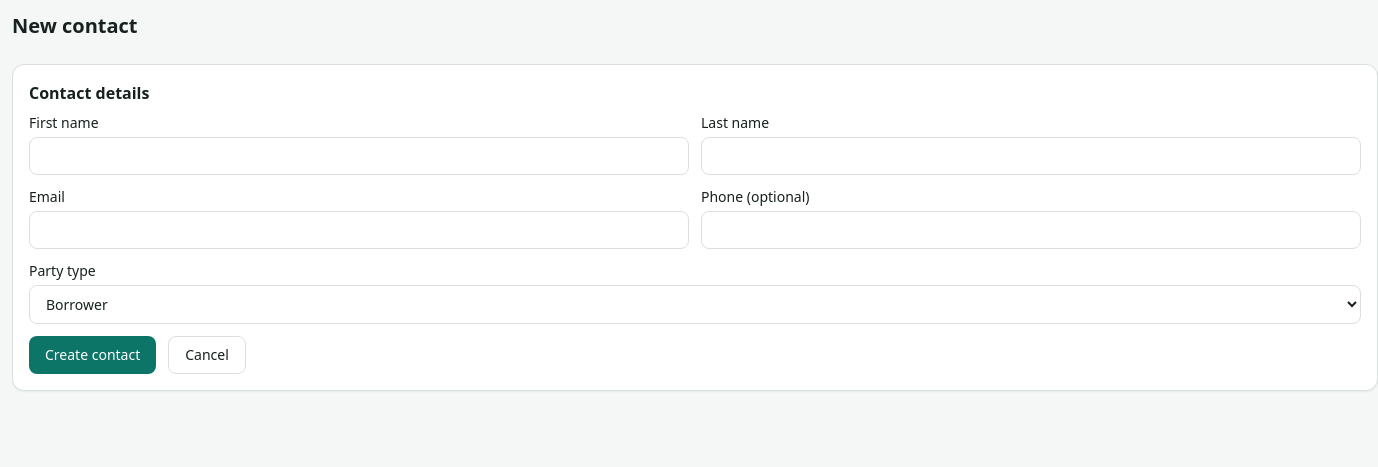
Scenario: ContactFormPage › shows the API validation errors
This screenshot has width=1378, height=467.
In the field labelled "First name": (359, 156) [29, 137, 689, 175], type "Ann"
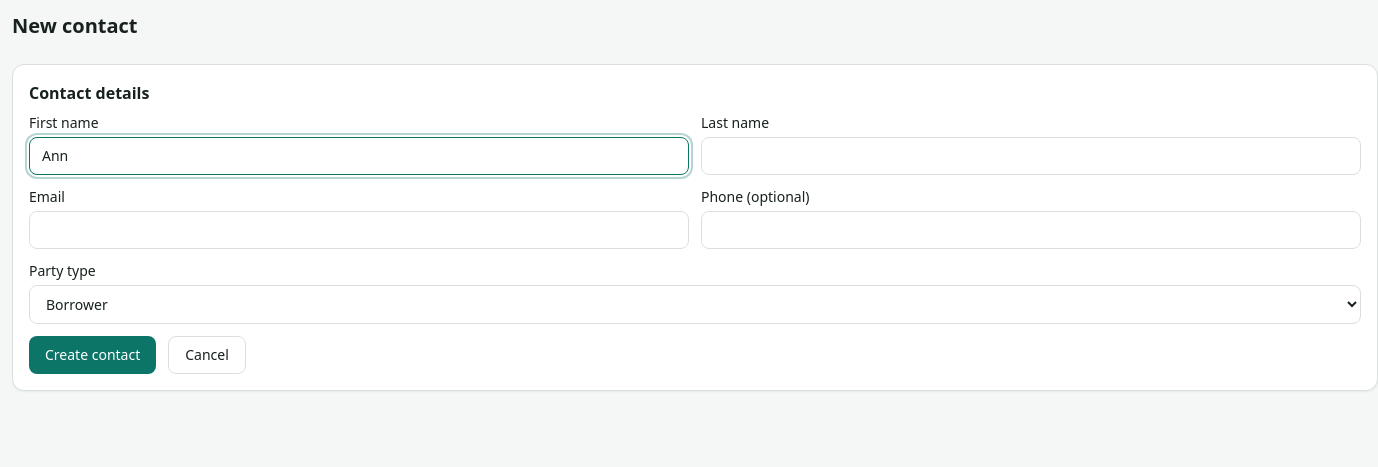
In the field labelled "Last name": (1031, 156) [701, 137, 1361, 175], type "Lee"
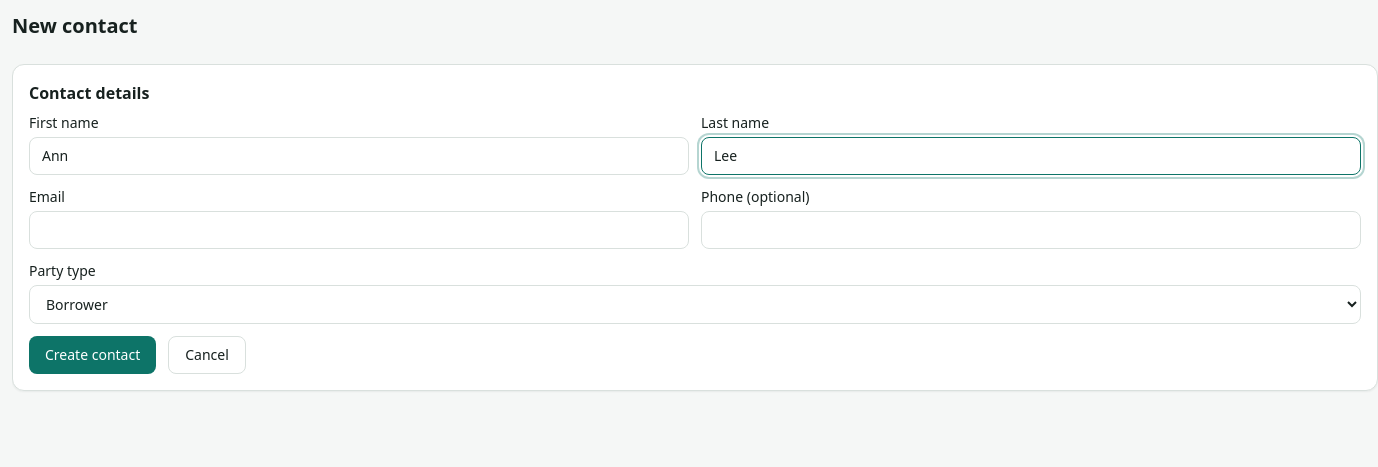
In the field labelled "Email": (359, 230) [29, 211, 689, 249], type "ann@example.com"
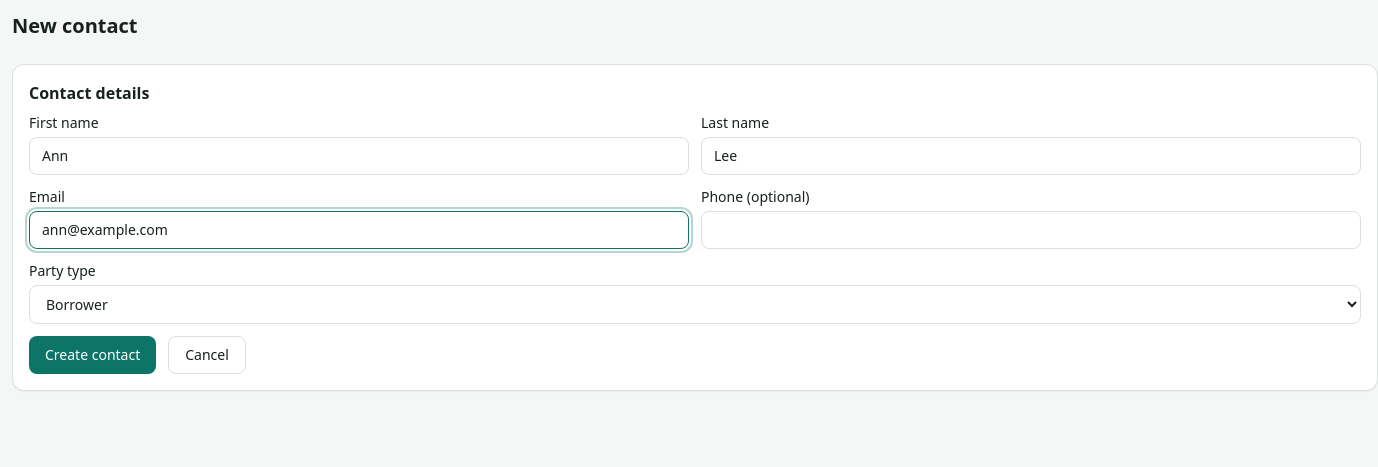
In the field labelled "Phone (optional)": (1031, 230) [701, 211, 1361, 249], type "abc"
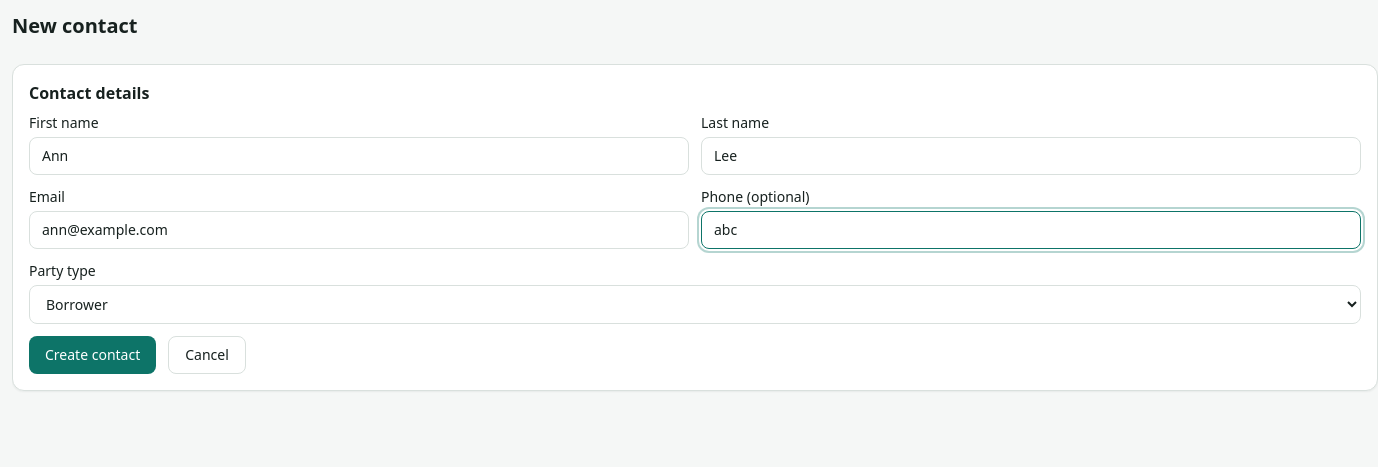
Click the button "Create contact": (93, 355) [29, 336, 156, 374]
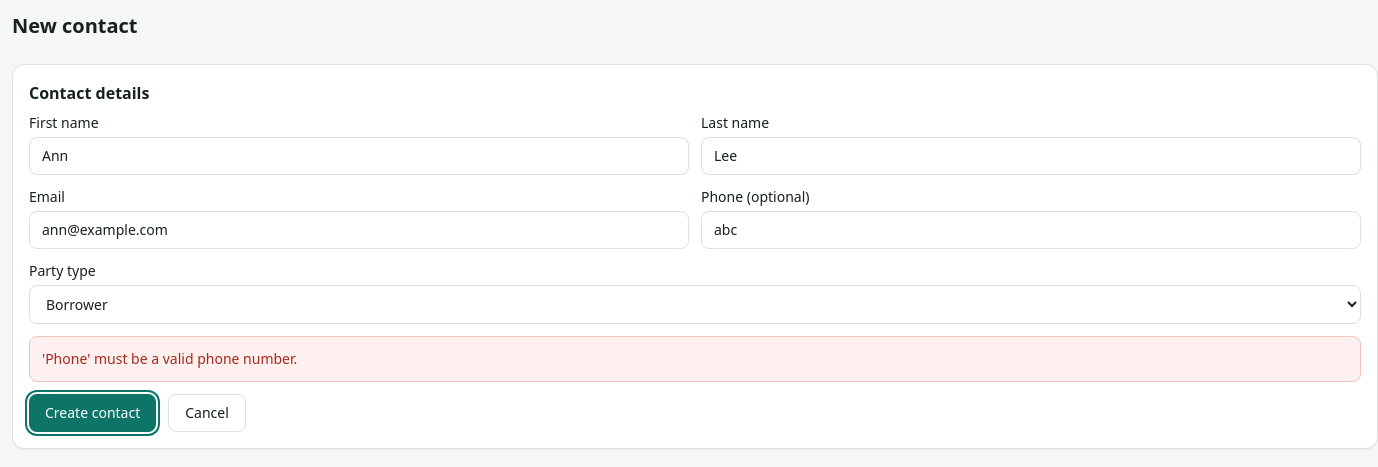
Result: the message shows "valid phone number" at [42, 349, 297, 368]
